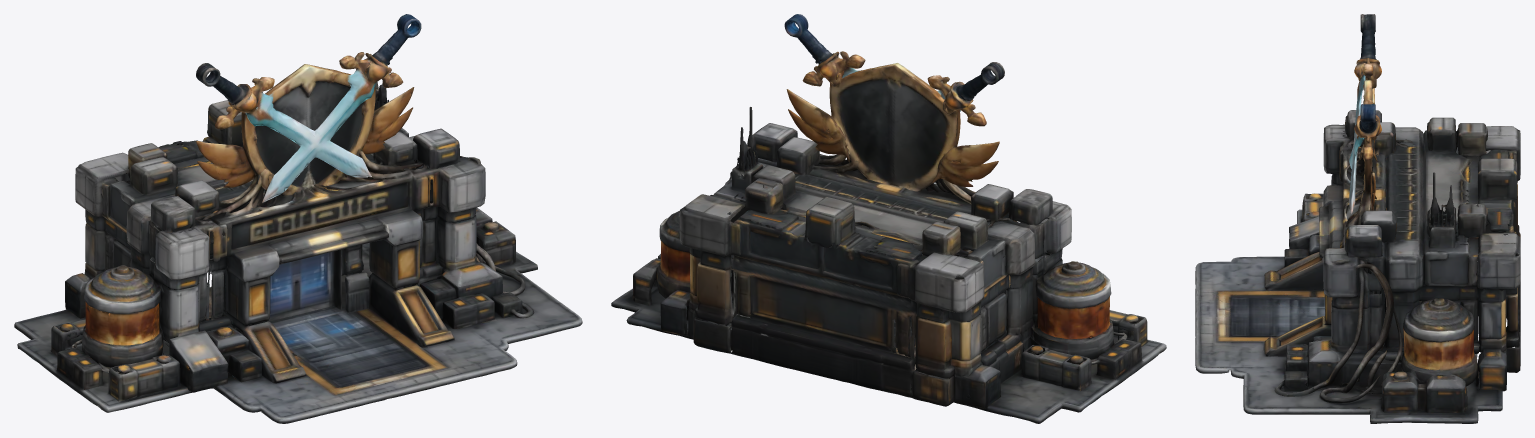
File: barracks.glb
The picture shows the model from 3 angles, left to right: view 1: azimuth 30°, elevation 25°; view 2: azimuth 150°, elevation 25°; view 3: azimuth 270°, elevation 25°; orthographic projection. The views are drawn at different scales.
Parts seen in each view (by area): view 1: world; view 2: world; view 3: world.
Part boxes in pixels (x1,y1,x2,y2): world: (14, 14, 582, 423); world: (611, 14, 1166, 423); world: (1195, 14, 1520, 423).
Size of the model in its own units: 1 by 0.5811 by 0.6529.
1 material, 1 textured.
